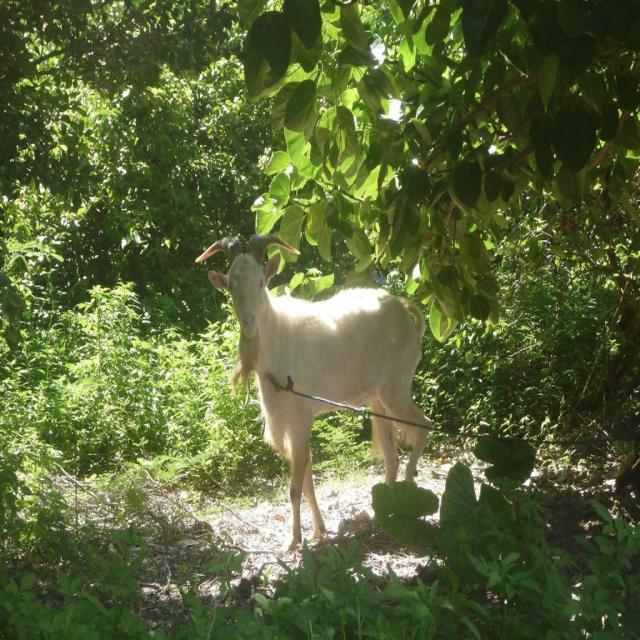Goat: (195, 230, 434, 552)
